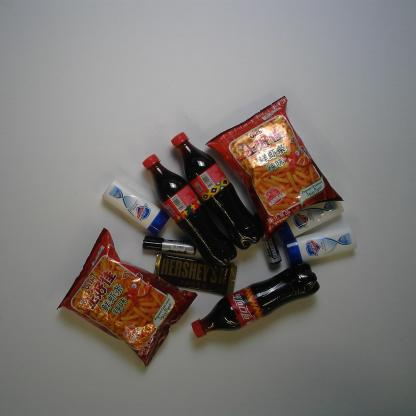Chocolate: (156, 256, 235, 299)
Drink: (169, 129, 261, 254), (140, 148, 236, 266), (192, 262, 322, 338)
Personal Hygiene: (98, 178, 174, 235), (286, 229, 356, 269), (280, 196, 346, 234)
Puffed Food: (43, 229, 194, 365), (208, 91, 346, 237)
Stationery: (136, 231, 199, 261), (254, 212, 281, 265)
